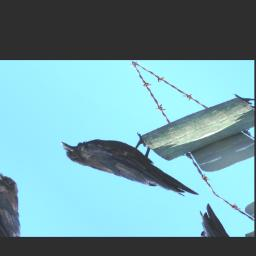Crow: (53, 116, 204, 222)
